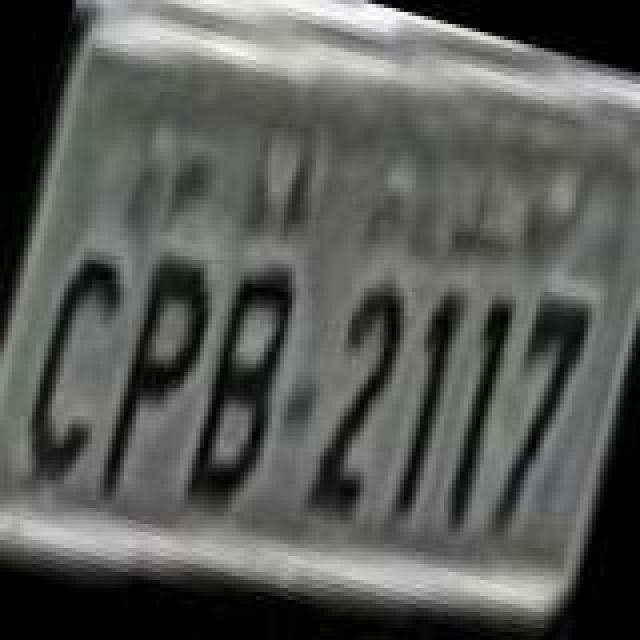1: (424, 296, 520, 536), (376, 288, 472, 520)
2: (302, 274, 418, 526)
7: (476, 284, 596, 540)
B: (180, 256, 308, 512)
C: (10, 248, 134, 488)
P: (94, 252, 226, 516)
